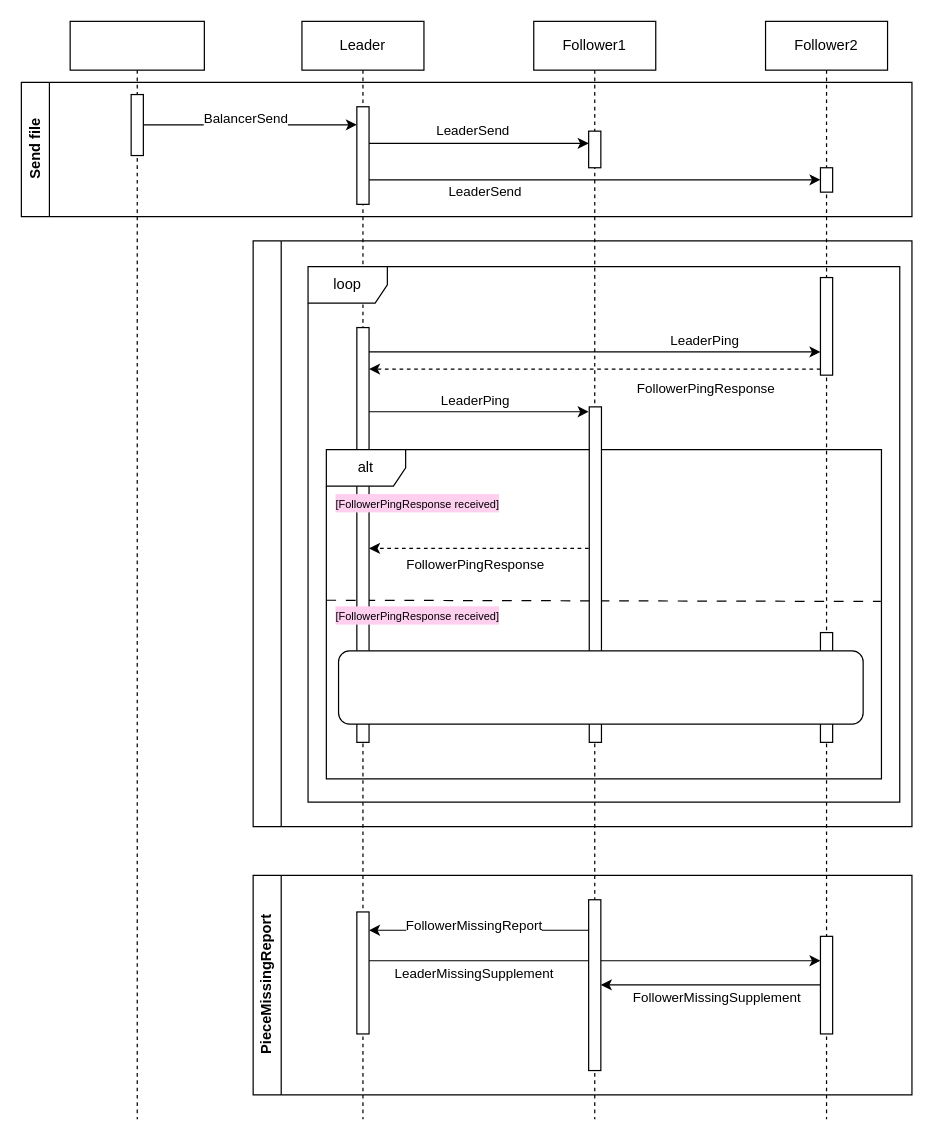
Image size: 933x1141. Some labels were removed from this diagram. The box of each missing label's shape, as (x1, y1, x2, y2) in pixels:
Balancer: (69, 20, 204, 1119)
Execute FollowerDisconnect Algorithm: (337, 650, 863, 724)
Periodic Ping: (252, 240, 912, 827)
